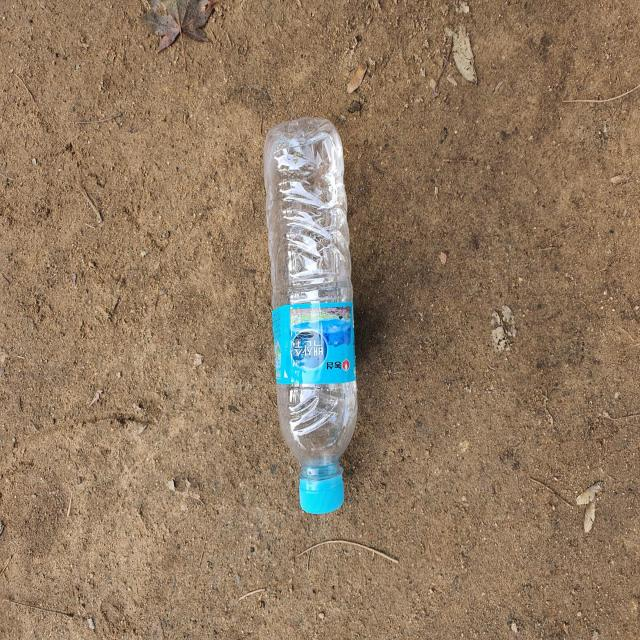plastic: (264, 116, 358, 514)
